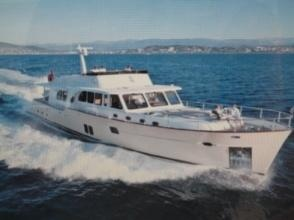yacht: (28, 43, 292, 177)
